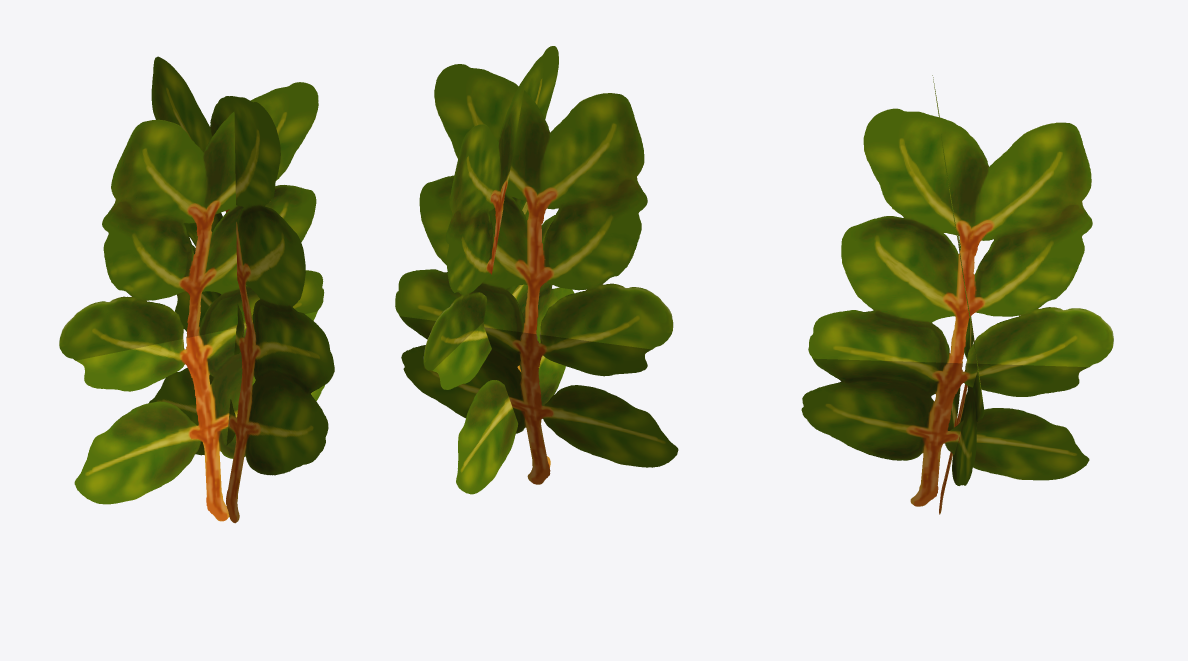
The model's file is DestroyedCarobLeaves.fbx.
The picture shows the model from 3 angles, left to right: view 1: azimuth 30°, elevation 25°; view 2: azimuth 150°, elevation 25°; view 3: azimuth 270°, elevation 25°; orthographic projection. The views are drawn at different scales.
Parts seen in each view (by area): view 1: CarobLeafParticles2; view 2: CarobLeafParticles2; view 3: CarobLeafParticles2.
Boxes of the visible parts, box(x1,y1,x2,y2) form: CarobLeafParticles2: box(59, 56, 334, 523); CarobLeafParticles2: box(395, 46, 678, 494); CarobLeafParticles2: box(801, 75, 1113, 514).
Size of the model in its own units: 1.06 by 1.49 by 1.05.
